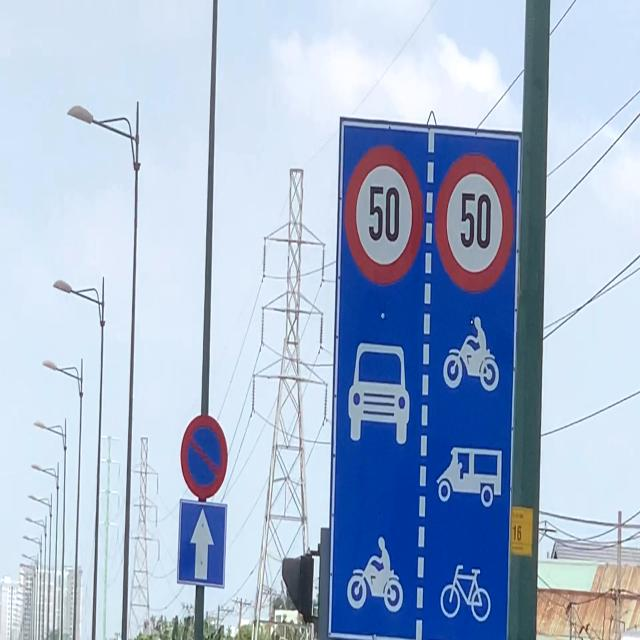P.131a: (179, 414, 228, 498)
R.407a: (176, 502, 226, 589)
